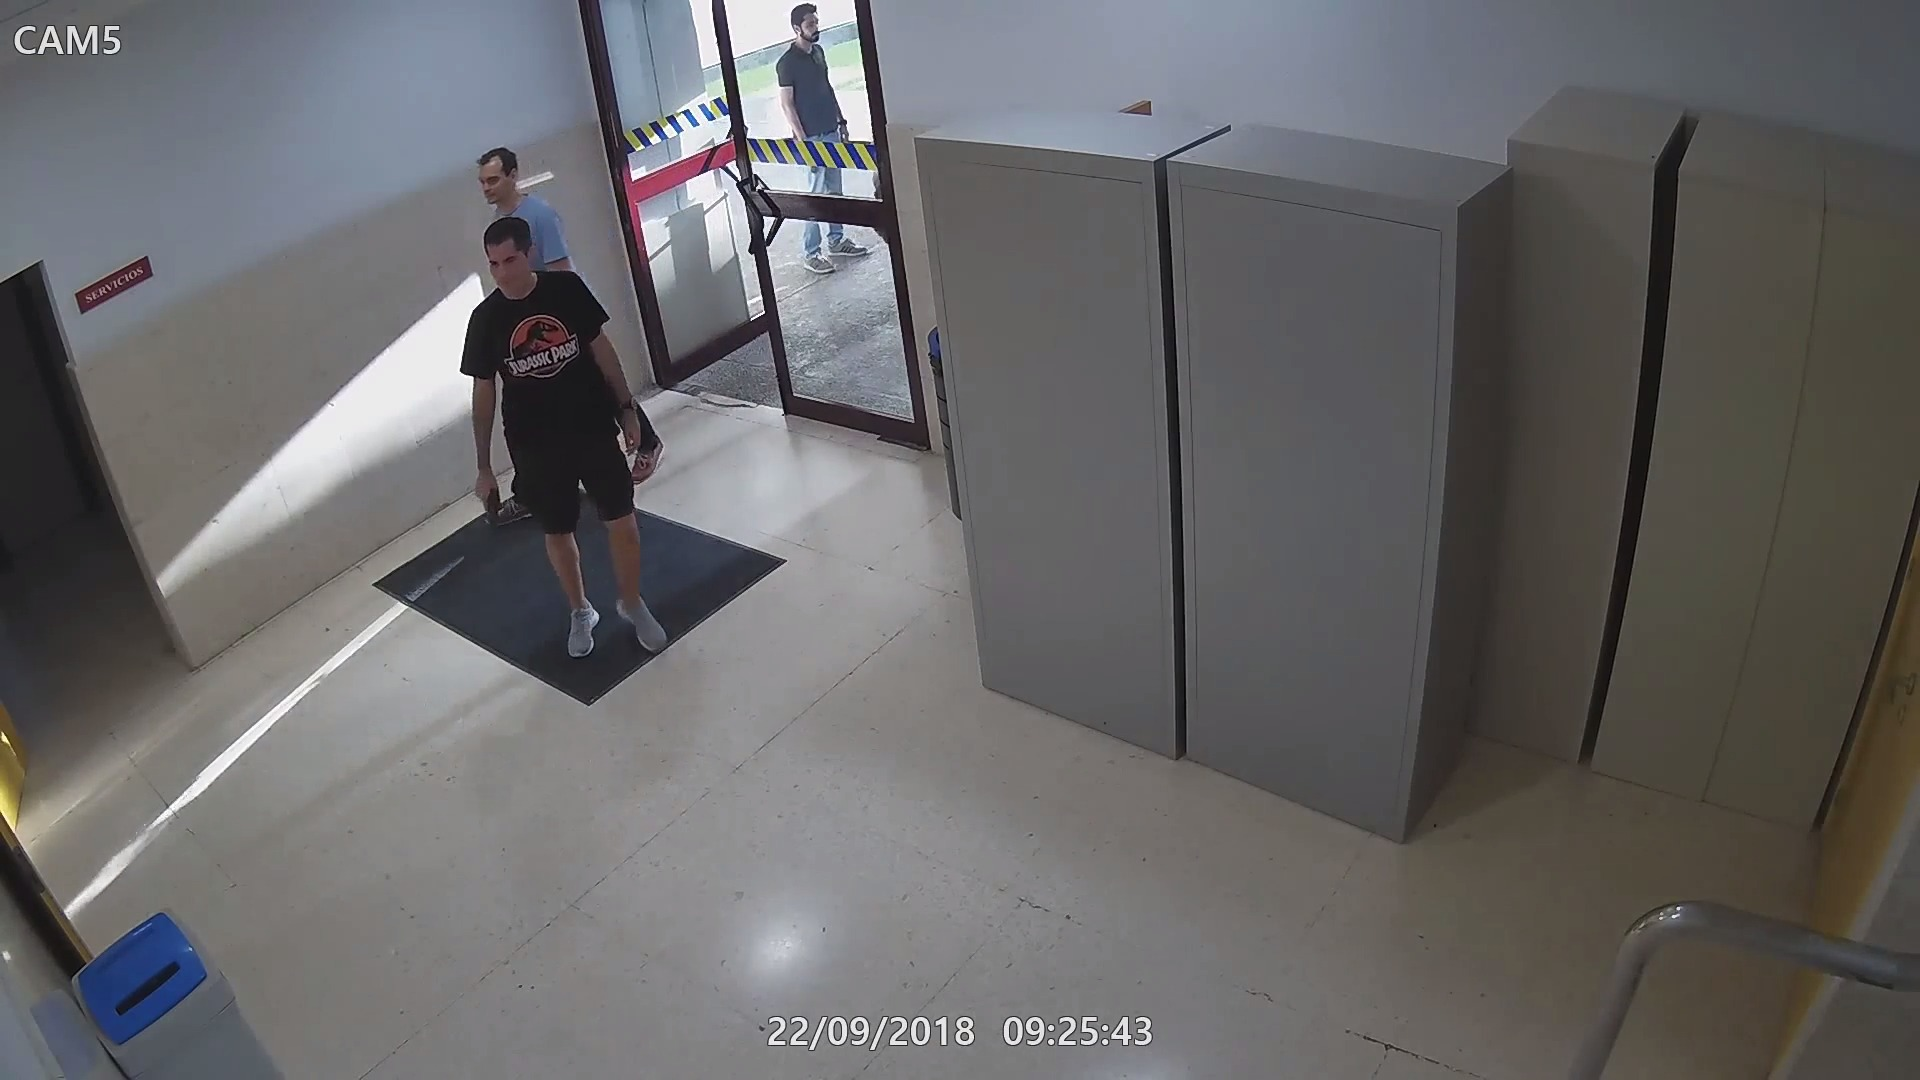Handgun: (469, 477, 498, 563)
